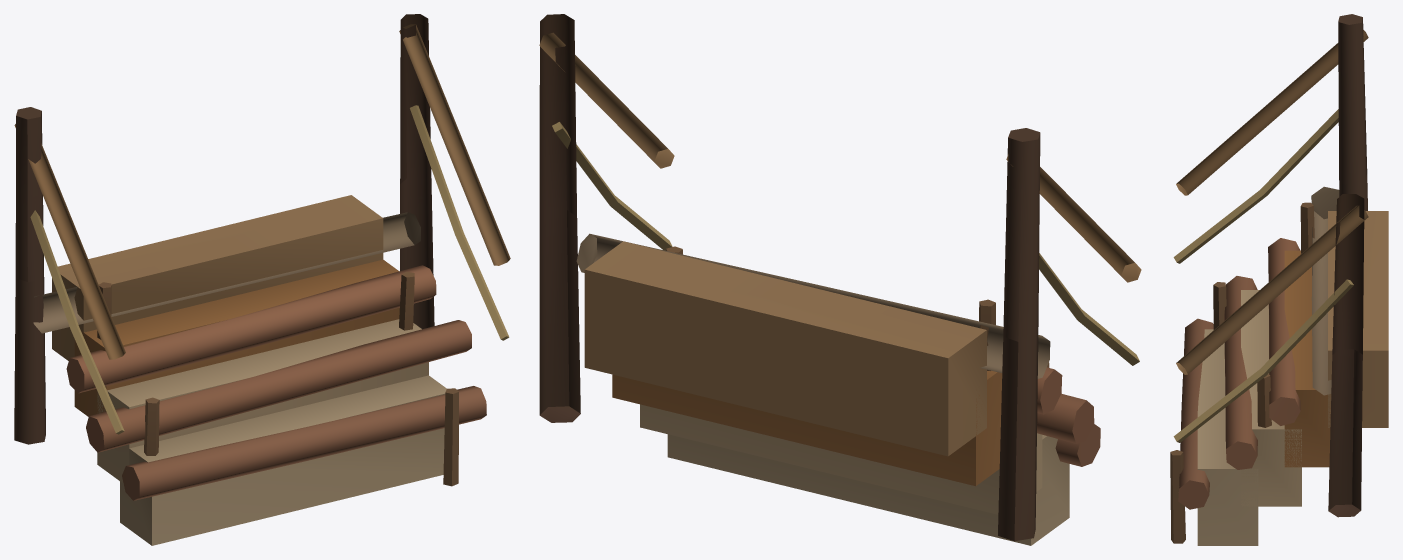
The model's file is bank_steps_piece.glb.
3 views of the same model, side by side, from view 1: azimuth 30°, elevation 25°; view 2: azimuth 150°, elevation 25°; view 3: azimuth 270°, elevation 25° (orthographic). The views are drawn at different scales.
Visible parts, largest first — view 1: bank_steps_piece; view 2: bank_steps_piece; view 3: bank_steps_piece.
Part boxes in pixels (x1,y1,x2,y2): bank_steps_piece: [14, 14, 510, 545]; bank_steps_piece: [539, 14, 1141, 545]; bank_steps_piece: [1170, 14, 1388, 545].
Size of the model in its own units: 2.61 by 2.33 by 1.26.
